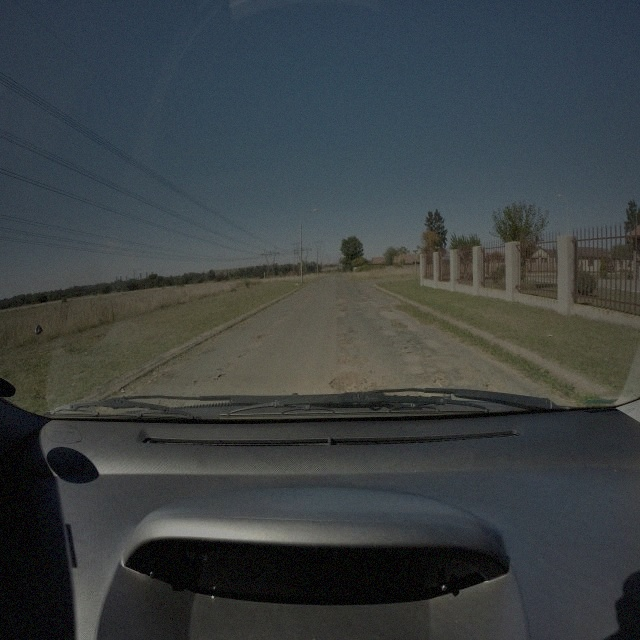pothole: (328, 369, 379, 395), (338, 328, 360, 350), (434, 369, 451, 388), (255, 330, 274, 342), (391, 320, 408, 331), (216, 371, 226, 381), (424, 356, 434, 363)
